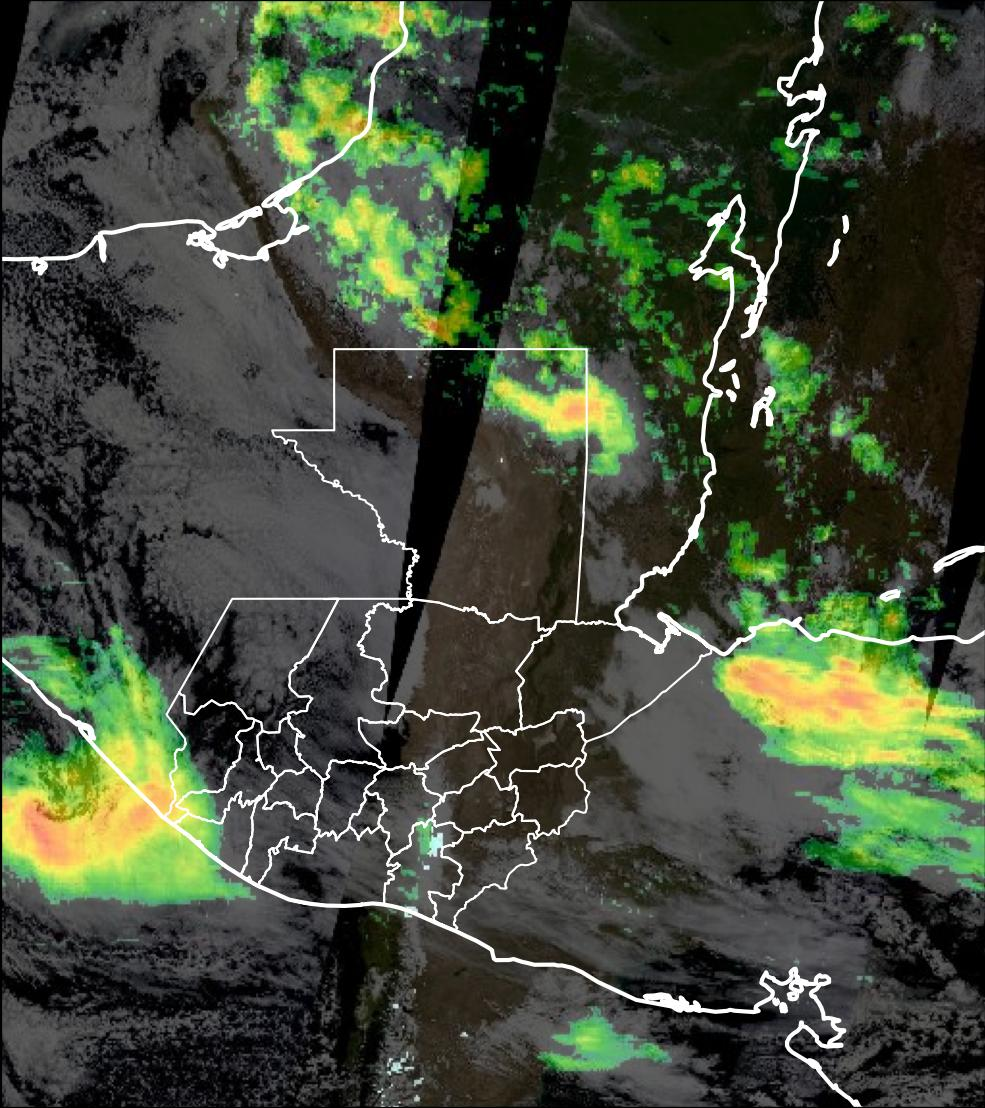precipitacion: (1, 749, 195, 882), (721, 650, 966, 743)
